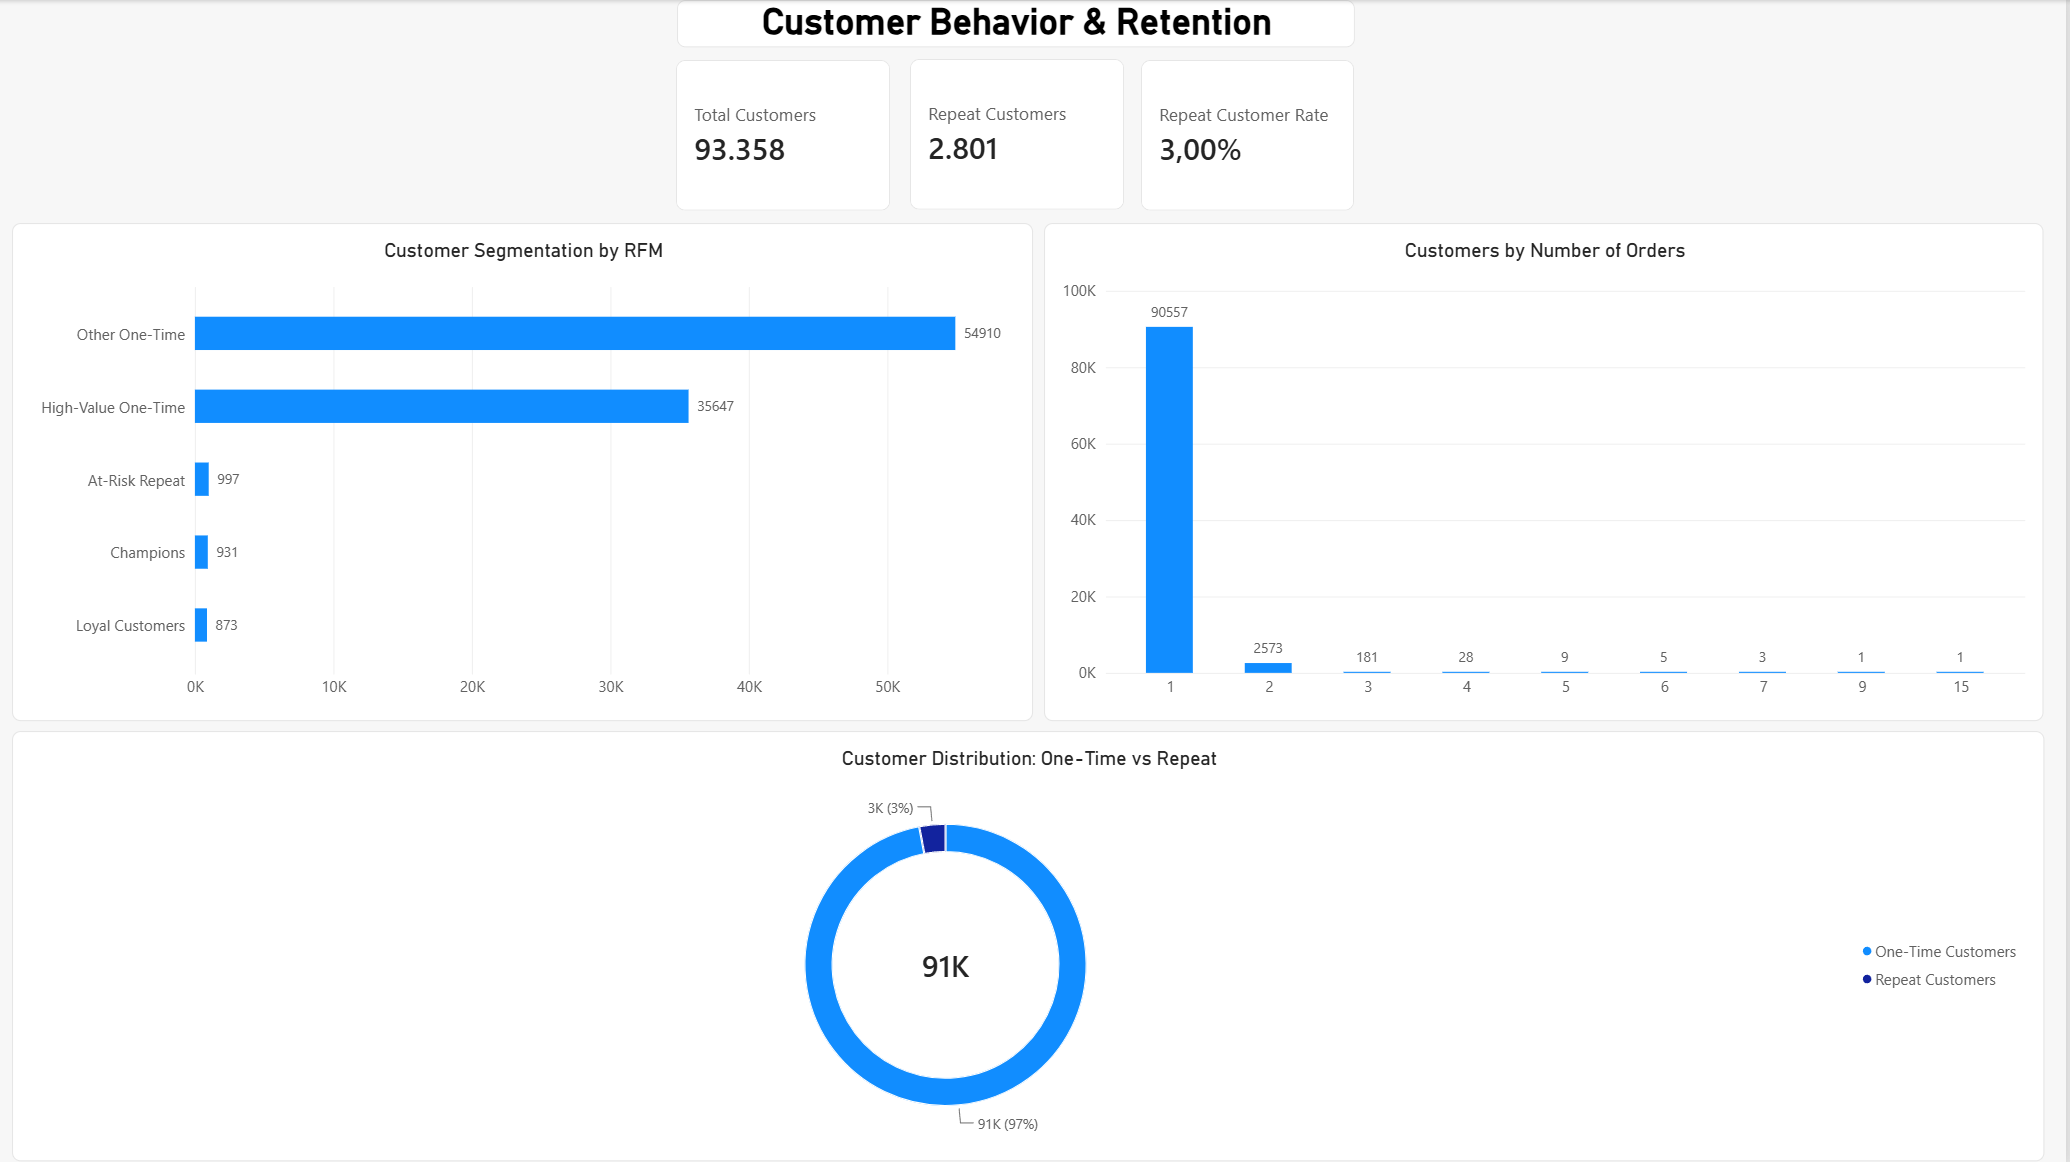

The dashboard page shown, as its layout file describes it:
{"tool":"powerbi","page":{"name":"Customer Behavior & Retention","canvas":[1920,1080],"ordinal":2},"visuals":[{"type":"textbox","title":"Customer Behavior & Retention","box":[629.2,0,630.2,44.2],"z":0},{"type":"cardVisual","fields":{"Data":["FactOrders.Total Customers"]},"box":[628.8,56.2,199.3,140.4],"z":1000},{"type":"cardVisual","fields":{"Data":["FactOrders.Repeat Customers"]},"box":[845.5,55.2,199.3,140.4],"z":2000},{"type":"cardVisual","fields":{"Data":["FactOrders.Repeat Customer Rate"]},"box":[1060.2,56.2,198.3,140.4],"z":3000},{"type":"donutChart","title":"Customer Distribution: One-Time vs Repeat","fields":{"Y":["DeliveryRetention.One-Time Customers","FactOrders.Repeat Customers"]},"box":[11.2,679.9,1889.3,399.7],"z":4000},{"type":"clusteredColumnChart","title":"Customers by Number of Orders","fields":{"Category":["CustomerOrderDistribution.Order Count"],"Y":["Count(CustomerOrderDistribution.customer_unique_id)"]},"box":[970.2,207.5,929.3,463.1],"z":5000},{"type":"clusteredBarChart","title":"Customer Segmentation by RFM","fields":{"Category":["DimCustomers.customer_segment"],"Y":["Count(DimCustomers.customer_unique_id)"]},"box":[11.2,207.5,948.8,463.1],"z":5001}]}

Visuals, with their boxes in screenshot pixels (x1, y1, x2, y2), scaled from the page's 1920x1080 canvas onto the 2070x1162 screenshot:
"Customer Behavior & Retention" textbox: 678,0,1358,48
cardVisual - FactOrders.Total Customers: 678,60,893,212
cardVisual - FactOrders.Repeat Customers: 912,59,1126,210
cardVisual - FactOrders.Repeat Customer Rate: 1143,60,1357,212
"Customer Distribution: One-Time vs Repeat" donutChart: 12,732,2049,1161
"Customers by Number of Orders" clusteredColumnChart: 1046,223,2048,722
"Customer Segmentation by RFM" clusteredBarChart: 12,223,1035,722
